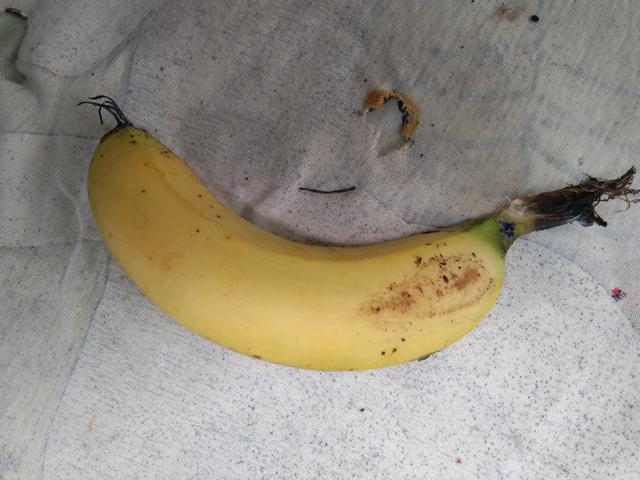freshripe: (77, 113, 513, 377)
